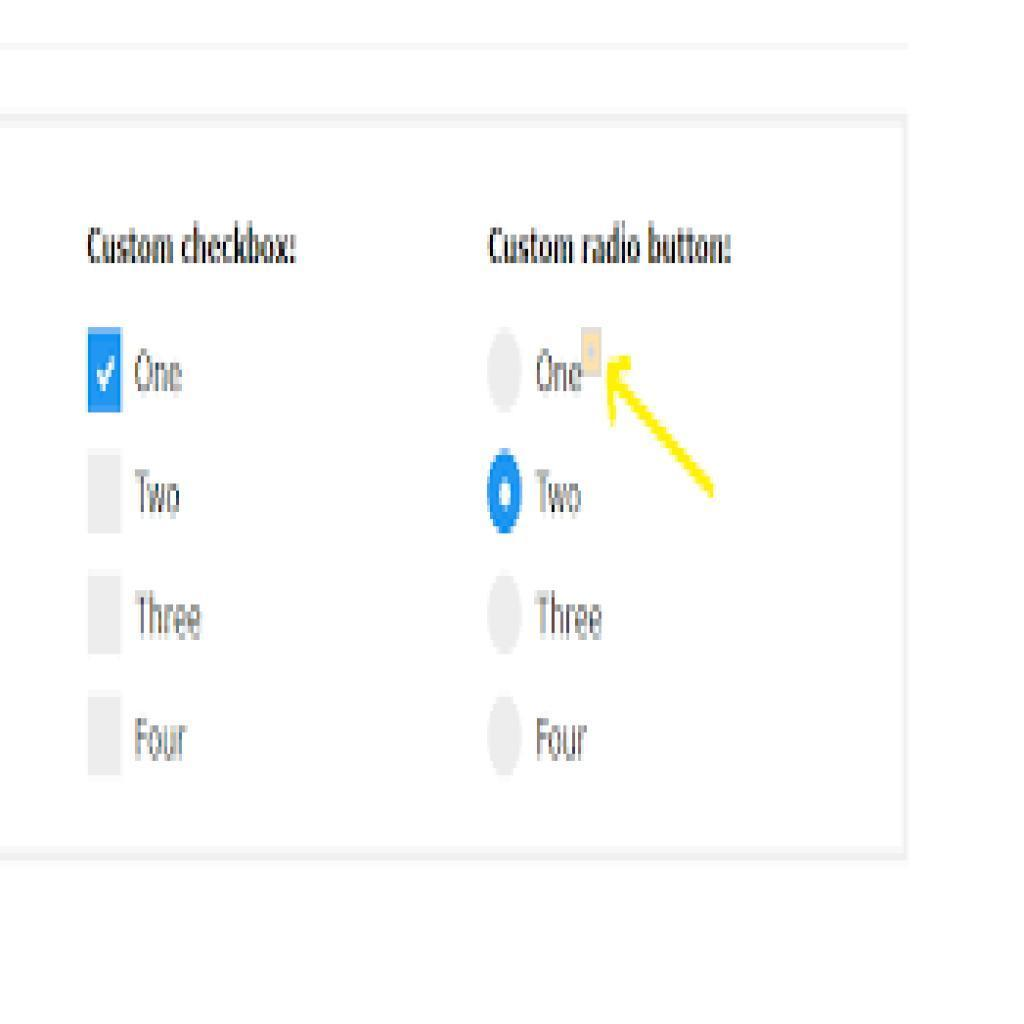checkbox: (86, 328, 125, 415), (84, 449, 125, 530), (85, 695, 124, 774), (85, 573, 122, 654)
radio: (483, 688, 530, 778), (486, 564, 528, 657), (489, 440, 528, 540), (485, 325, 525, 420)
